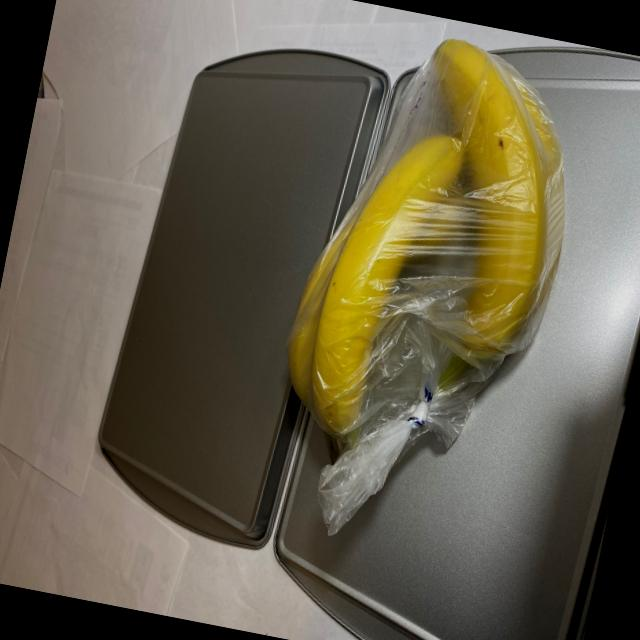banana: (261, 25, 602, 512)
